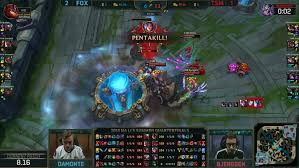bar: (176, 32, 200, 39), (182, 63, 207, 69), (143, 61, 167, 67), (179, 70, 205, 74)
